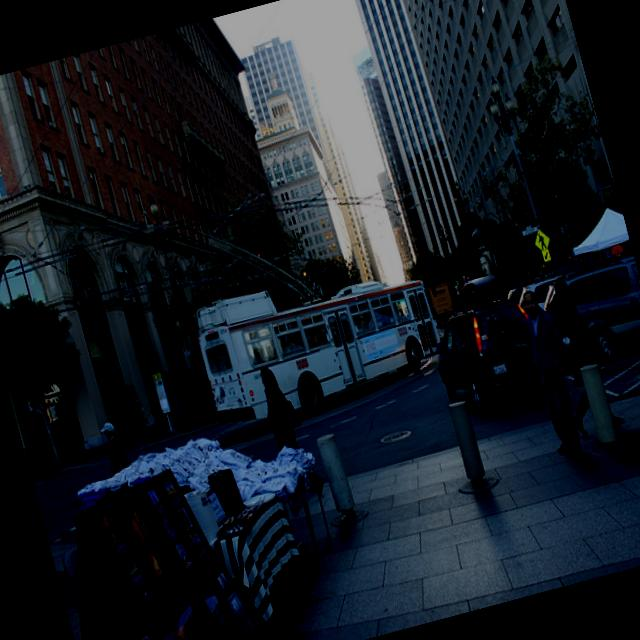Vehicle: (188, 245, 450, 434), (423, 291, 548, 418), (567, 260, 640, 363), (528, 274, 572, 312), (514, 282, 544, 322), (542, 257, 586, 280), (504, 284, 526, 306)
